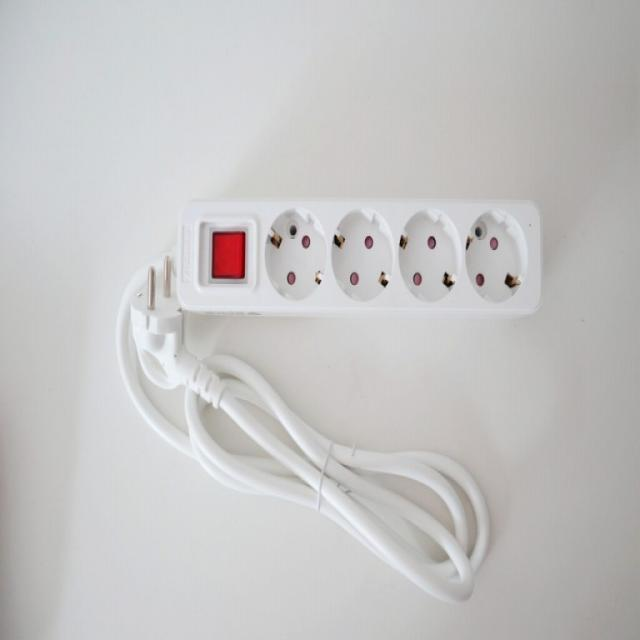typeb: (171, 181, 556, 365)
